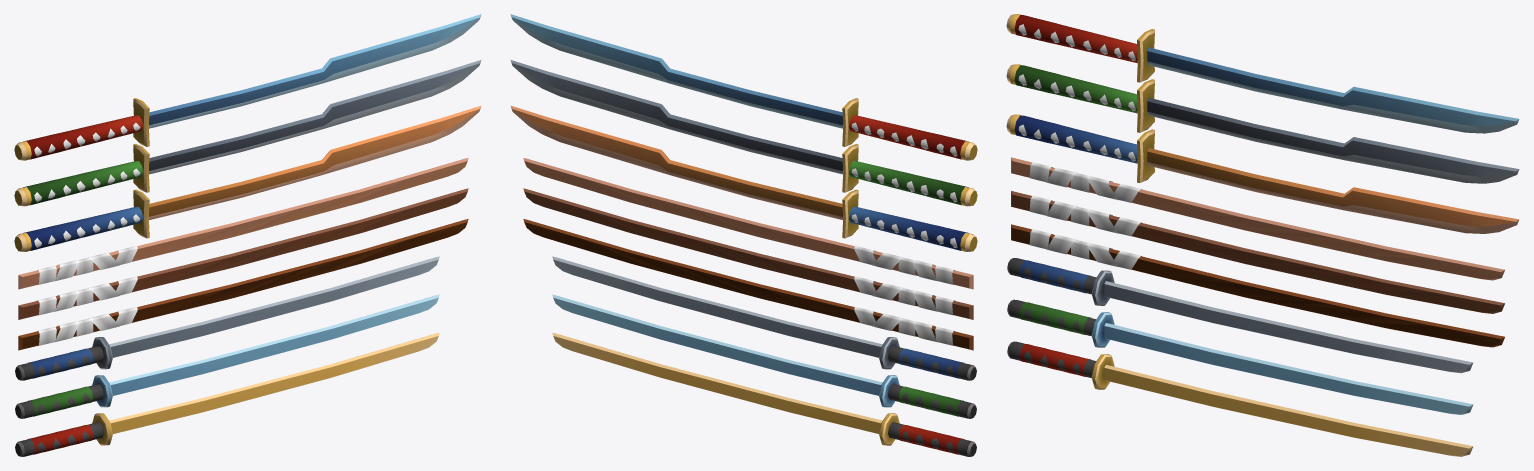
The model's file is Katana_extended_set.fbx.
3 views of the same model, side by side, from view 1: azimuth 30°, elevation 25°; view 2: azimuth 150°, elevation 25°; view 3: azimuth 330°, elevation 25° (orthographic). The views are drawn at different scales.
Parts seen in each view (by area): view 1: MetalGradientGrey, MetalGradientBlue, MetalGradientOrange, WoodDark, WoodLight, WoodMedium, MetalGradientGrey1, MetalGradientBlue2, MetalGradientYellow3, GradientGreyLight (×3), GradientGreen (×2), GradientBlue (×2) (+3 smaller); view 2: MetalGradientGrey, MetalGradientBlue, MetalGradientOrange, WoodDark, WoodLight, WoodMedium, MetalGradientGrey1, MetalGradientBlue2, MetalGradientYellow3, GradientGreyLight (×3), GradientGreen (×2), GradientBlue (×2) (+3 smaller); view 3: MetalGradientOrange, MetalGradientGrey, MetalGradientBlue, WoodLight, WoodDark, WoodMedium, MetalGradientGrey1, MetalGradientBlue2, MetalGradientYellow3, GradientGreyLight (×3), GradientGreen (×2), GradientRed (×2) (+3 smaller).
Part boxes in pixels (x1=…): MetalGradientGrey: x1=149, y1=60, x2=481, y2=174; MetalGradientBlue: x1=149, y1=14, x2=481, y2=128; MetalGradientOrange: x1=149, y1=106, x2=481, y2=219; WoodDark: x1=18, y1=219, x2=468, y2=350; WoodLight: x1=18, y1=158, x2=468, y2=289; WoodMedium: x1=18, y1=188, x2=468, y2=319; MetalGradientGrey1: x1=92, y1=256, x2=439, y2=369; MetalGradientBlue2: x1=92, y1=294, x2=439, y2=407; MetalGradientYellow3: x1=92, y1=332, x2=439, y2=445; GradientGreyLight (×3): x1=36, y1=246, x2=137, y2=346; GradientGreen (×2): x1=23, y1=161, x2=142, y2=416; GradientBlue (×2): x1=24, y1=206, x2=142, y2=378; MetalGradientGrey: x1=510, y1=60, x2=842, y2=174; MetalGradientBlue: x1=510, y1=14, x2=842, y2=128; MetalGradientOrange: x1=510, y1=106, x2=842, y2=219; WoodDark: x1=523, y1=219, x2=973, y2=350; WoodLight: x1=523, y1=158, x2=973, y2=289; WoodMedium: x1=523, y1=188, x2=973, y2=319; MetalGradientGrey1: x1=552, y1=256, x2=899, y2=369; MetalGradientBlue2: x1=552, y1=294, x2=899, y2=407; MetalGradientYellow3: x1=552, y1=332, x2=899, y2=445; GradientGreyLight (×3): x1=854, y1=246, x2=955, y2=346; GradientGreen (×2): x1=849, y1=161, x2=968, y2=416; GradientBlue (×2): x1=849, y1=206, x2=967, y2=378; MetalGradientOrange: x1=1147, y1=148, x2=1519, y2=233; MetalGradientGrey: x1=1147, y1=97, x2=1519, y2=183; MetalGradientBlue: x1=1147, y1=47, x2=1519, y2=133; WoodLight: x1=1011, y1=157, x2=1504, y2=280; WoodDark: x1=1011, y1=224, x2=1504, y2=347; WoodMedium: x1=1011, y1=191, x2=1504, y2=313; MetalGradientGrey1: x1=1091, y1=270, x2=1473, y2=373; MetalGradientBlue2: x1=1091, y1=312, x2=1473, y2=414; MetalGradientYellow3: x1=1091, y1=354, x2=1473, y2=456; GradientGreyLight (×3): x1=1029, y1=162, x2=1141, y2=269; GradientGreen (×2): x1=1014, y1=65, x2=1137, y2=334; GradientRed (×2): x1=1014, y1=15, x2=1137, y2=376.
Size of the model in its own units: 63.58 by 44.43 by 4.15.
